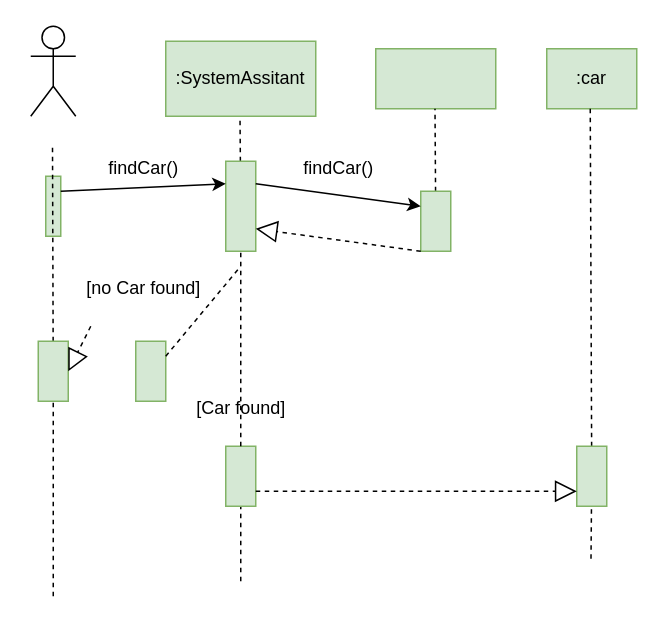
This 663x624 diagram has some shape labels left out. The centre of each missing label's shape, as x and y in pixels:
:CarCatalog: pixel 435 78
管理者: pixel 52 70
